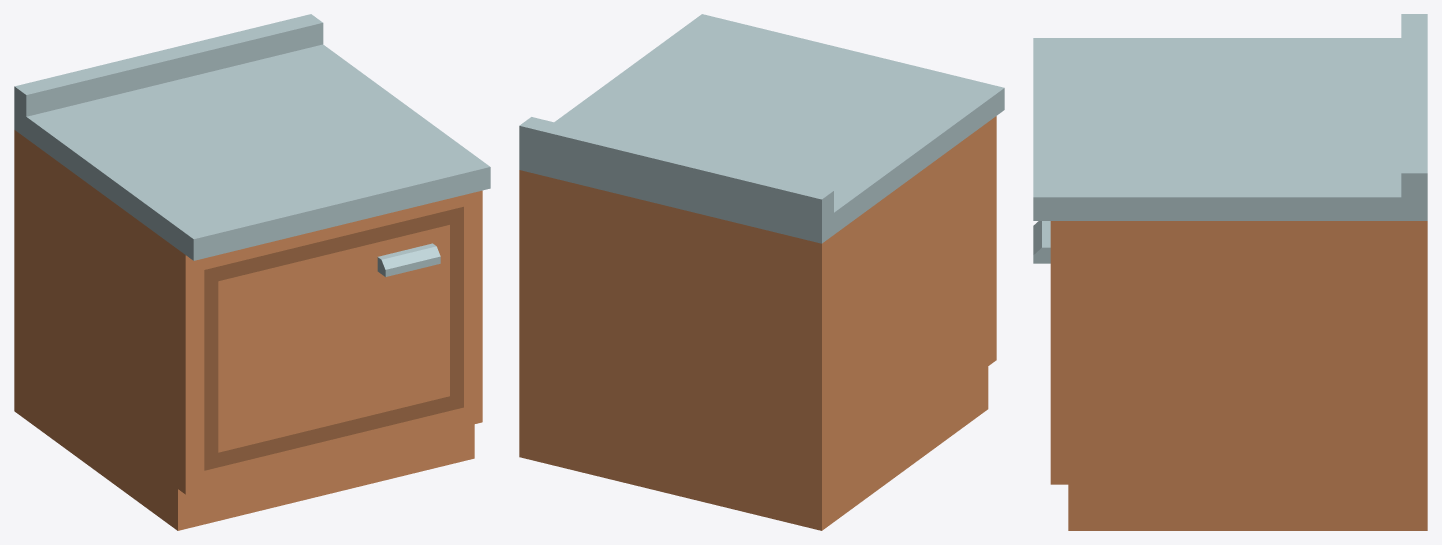
Rendered from Kitchen Cabinet.glb.
3 views of the same model, side by side, from view 1: azimuth 30°, elevation 25°; view 2: azimuth 150°, elevation 25°; view 3: azimuth 270°, elevation 25° (orthographic). The views are drawn at different scales.
Visible parts, largest first — view 1: kitchenCabinet(Clone), door; view 2: kitchenCabinet(Clone); view 3: kitchenCabinet(Clone), door.
Boxes of the visible parts, x1,y1,x2,y2 form: kitchenCabinet(Clone): (14,14,490,530); door: (204,206,463,470); kitchenCabinet(Clone): (519,14,1004,530); kitchenCabinet(Clone): (1033,14,1427,530); door: (1033,221,1050,263).
Size of the model in its own units: 0.43 by 0.45 by 0.45.
